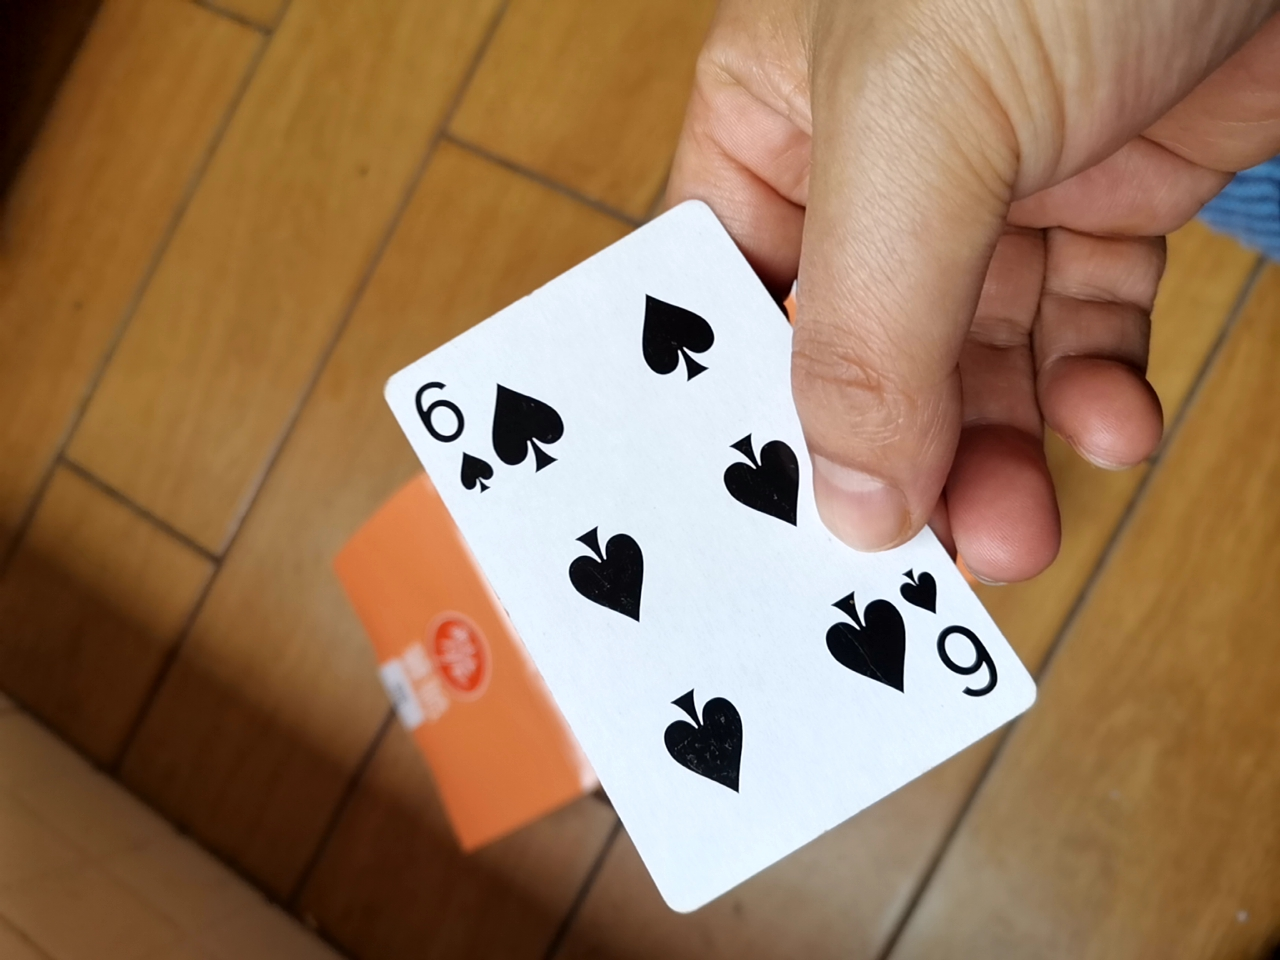ht 6: (363, 199, 1017, 929)
